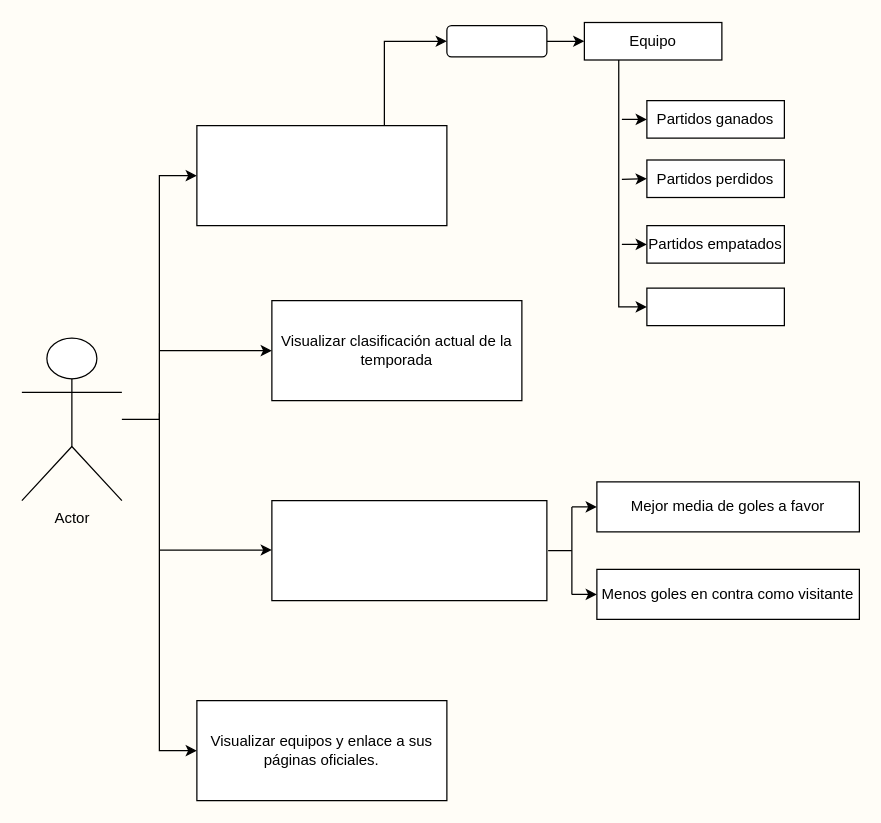
This 881x823 diagram has some shape labels left out. Here are the shapes that lost their labels. From the top down, the box of each, then its label:
(446, 24, 547, 57): FILTRO
(196, 124, 447, 226): Visualizar resultados actuales de partidos
(646, 287, 784, 326): Partidos pendientes
(271, 499, 547, 601): Visualizar estadísticas. "Cinco mejores"
